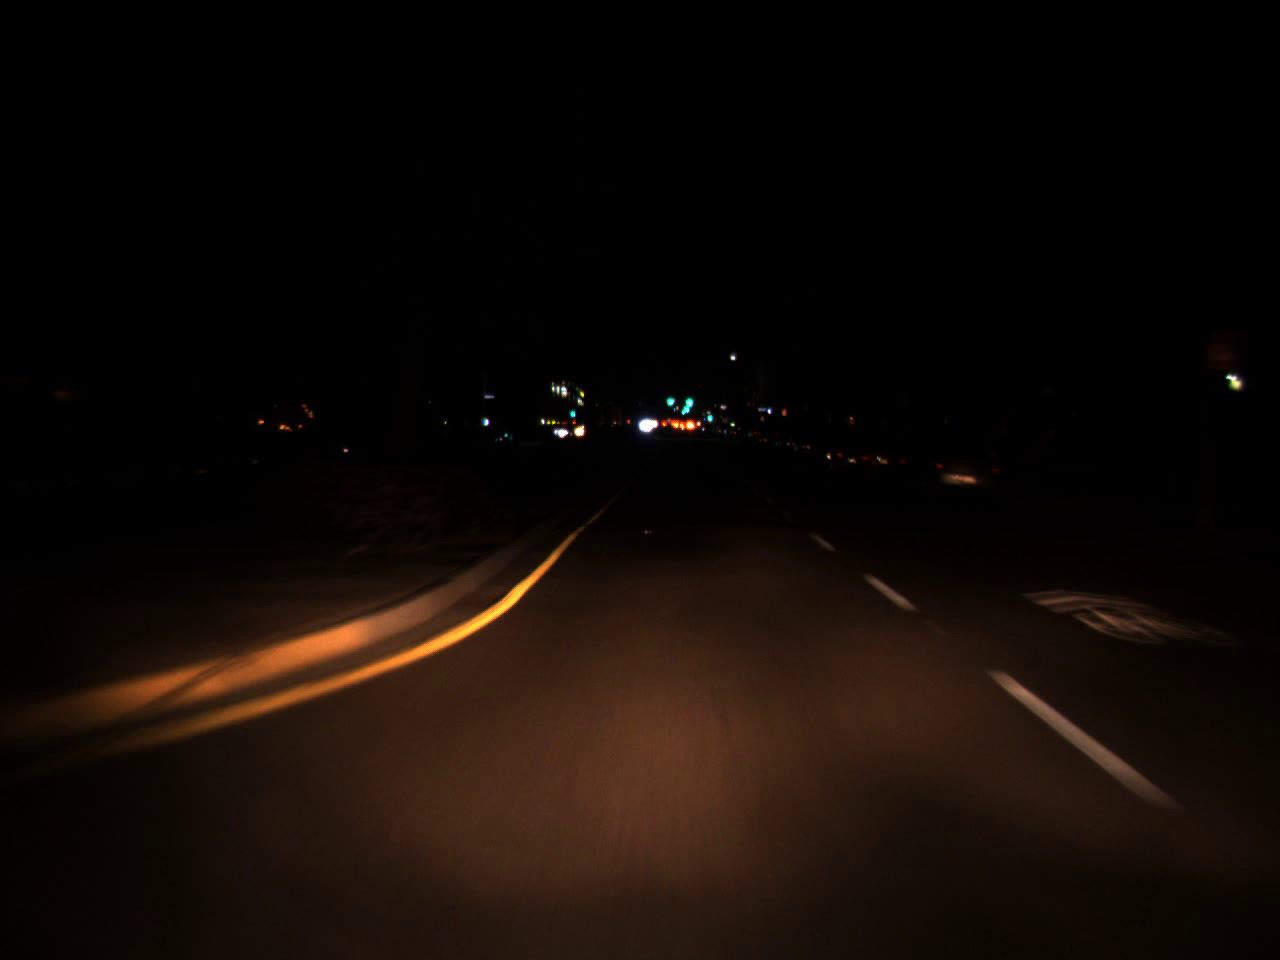go: (680, 387, 694, 411), (662, 388, 674, 409), (569, 406, 577, 418), (706, 410, 713, 422)
